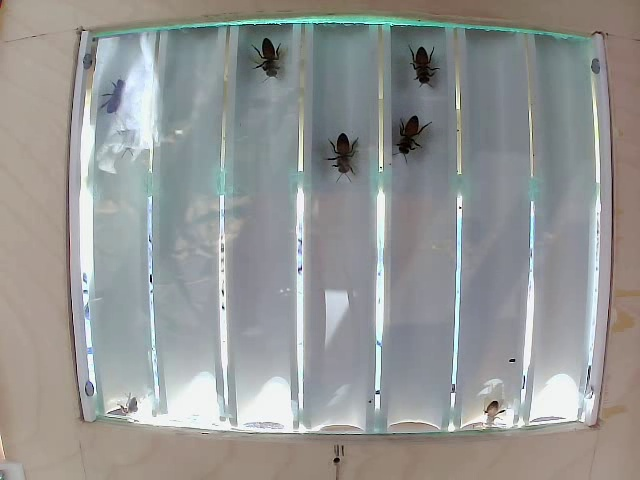bee: (318, 132, 374, 174), (387, 114, 431, 162), (413, 43, 455, 84), (241, 43, 284, 82)
